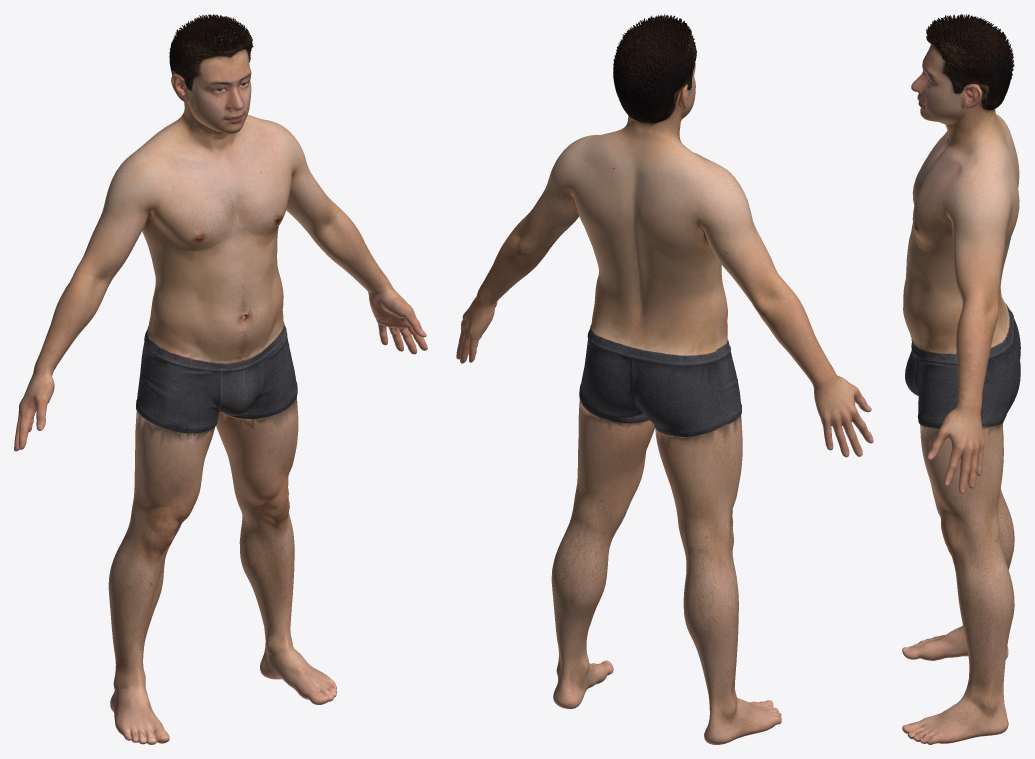
Rendered from character-color-matched.glb.
The picture shows the model from 3 angles, left to right: view 1: azimuth 30°, elevation 25°; view 2: azimuth 150°, elevation 25°; view 3: azimuth 270°, elevation 25°; orthographic projection.
Parts seen in each view (by area): view 1: Mesh_0.001; view 2: Mesh_0.001; view 3: Mesh_0.001.
Boxes of the visible parts, <box> form: Mesh_0.001: <box>14,14,427,744</box>; Mesh_0.001: <box>456,14,873,744</box>; Mesh_0.001: <box>902,14,1020,744</box>.
Bounding box in the file's own units: 1.18 × 1.9 × 0.3004.
1 material, 1 textured.
